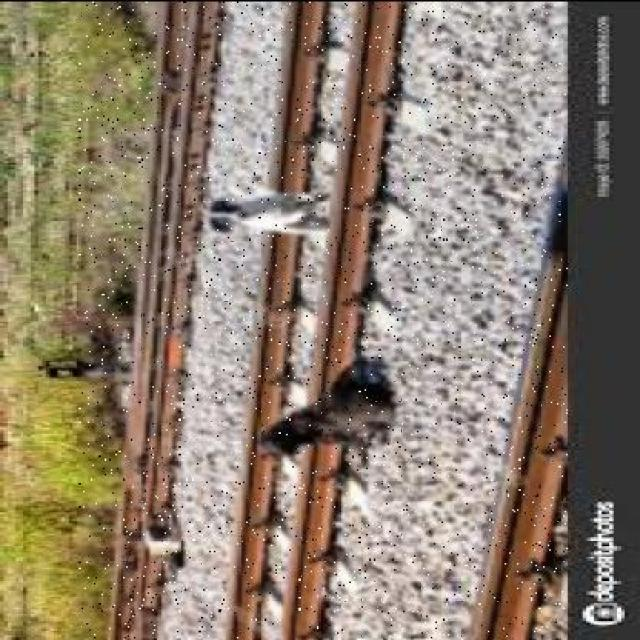danger: (260, 375, 402, 460), (211, 180, 344, 238)
rail: (78, 0, 568, 637)
